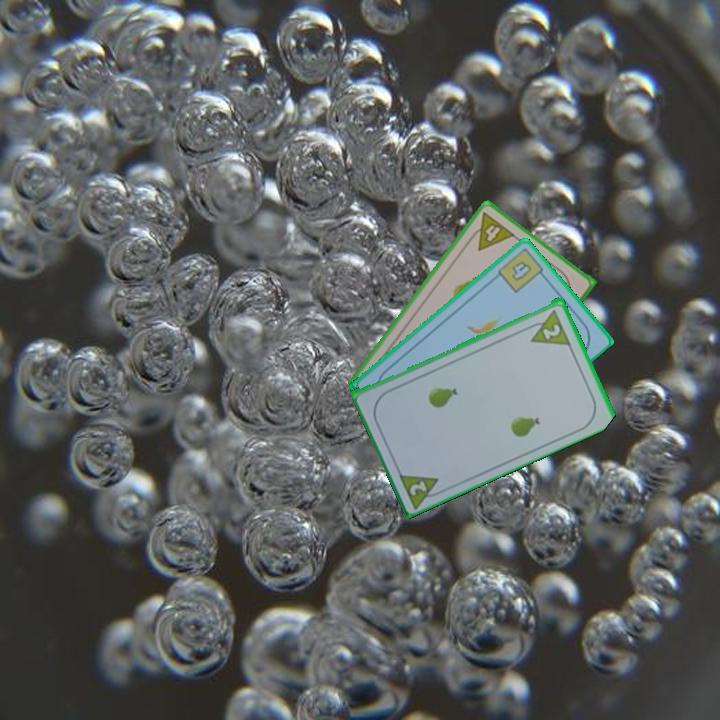2p: (522, 306, 573, 348), (406, 477, 430, 498)
4b: (494, 245, 549, 296)
4p: (464, 208, 518, 254)
